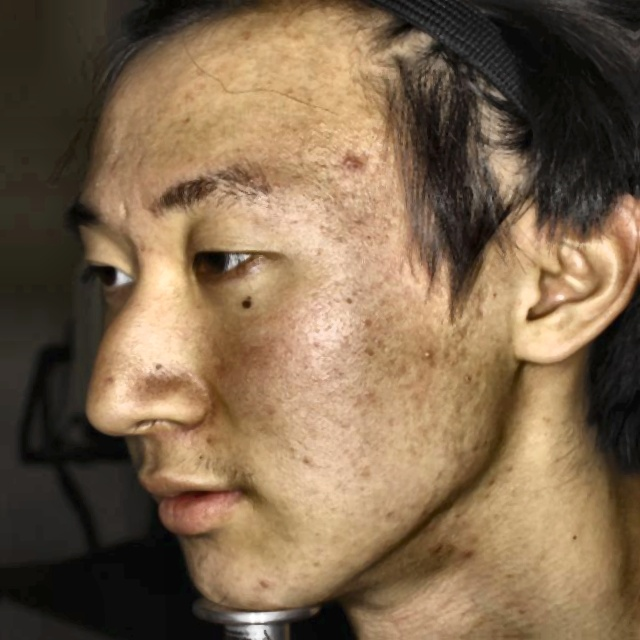comedone: (254, 569, 298, 598), (330, 149, 367, 180)
